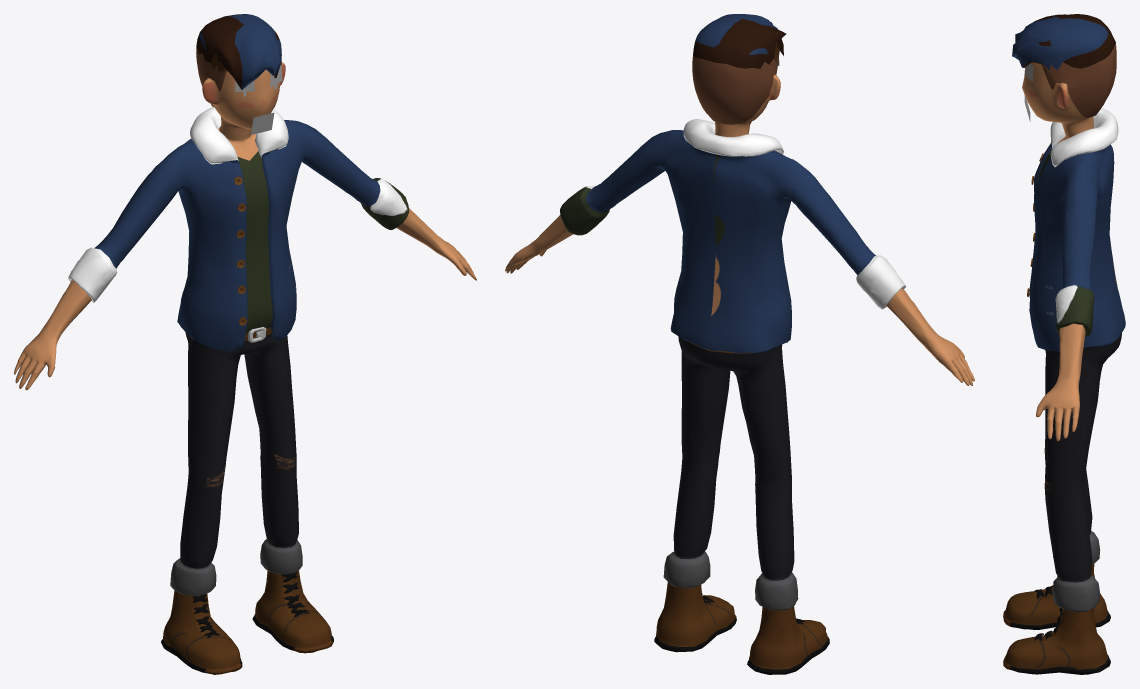
Rendered from jace2.fbx.
3 renders of one model, left to right at view 1: azimuth 30°, elevation 25°; view 2: azimuth 150°, elevation 25°; view 3: azimuth 270°, elevation 25°, orthographic.
Parts seen in each view (by area): view 1: Jace_New; view 2: Jace_New; view 3: Jace_New.
Boxes of the visible parts, x1,y1,x2,y2 form: Jace_New: (14,14,476,674); Jace_New: (505,14,974,674); Jace_New: (1003,14,1125,674).
Bounding box in the file's own units: 131 × 169 × 30.24.
